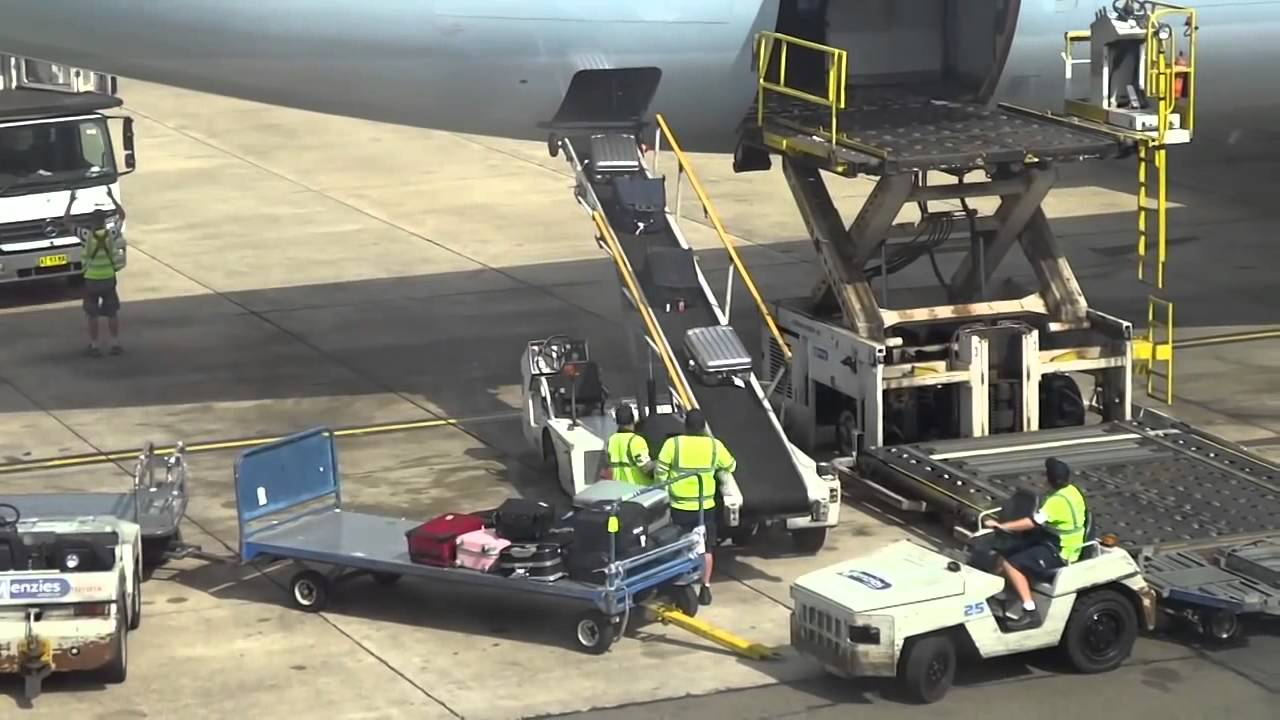baggagetruck: (478, 103, 834, 547)
